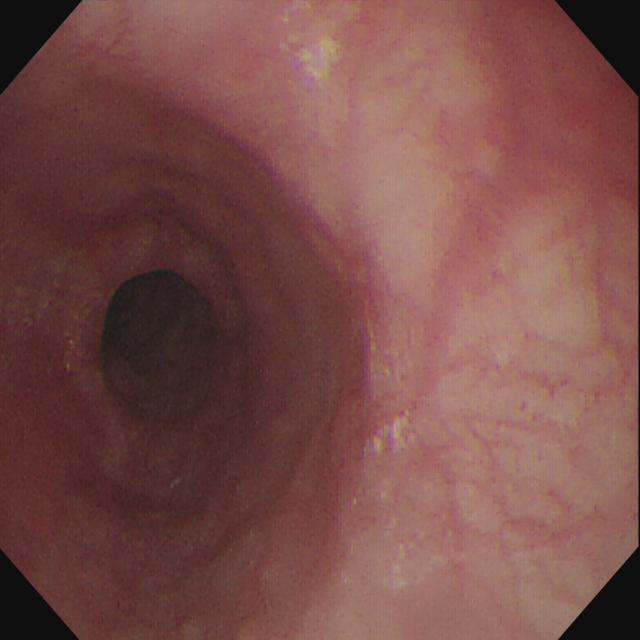E: (87, 267, 228, 408)
J: (391, 540, 412, 601)
